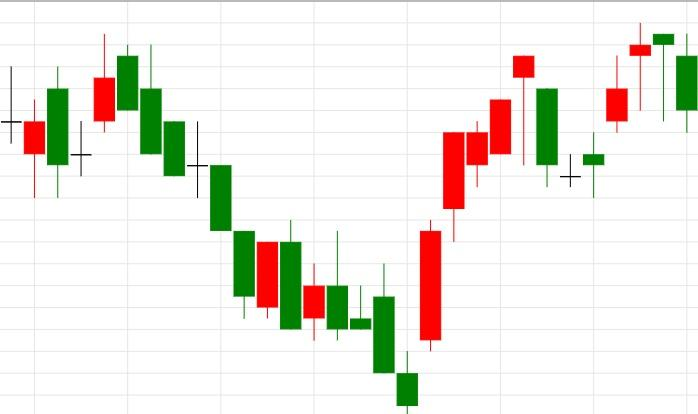hanging_man_fall: (396, 55, 536, 413)
